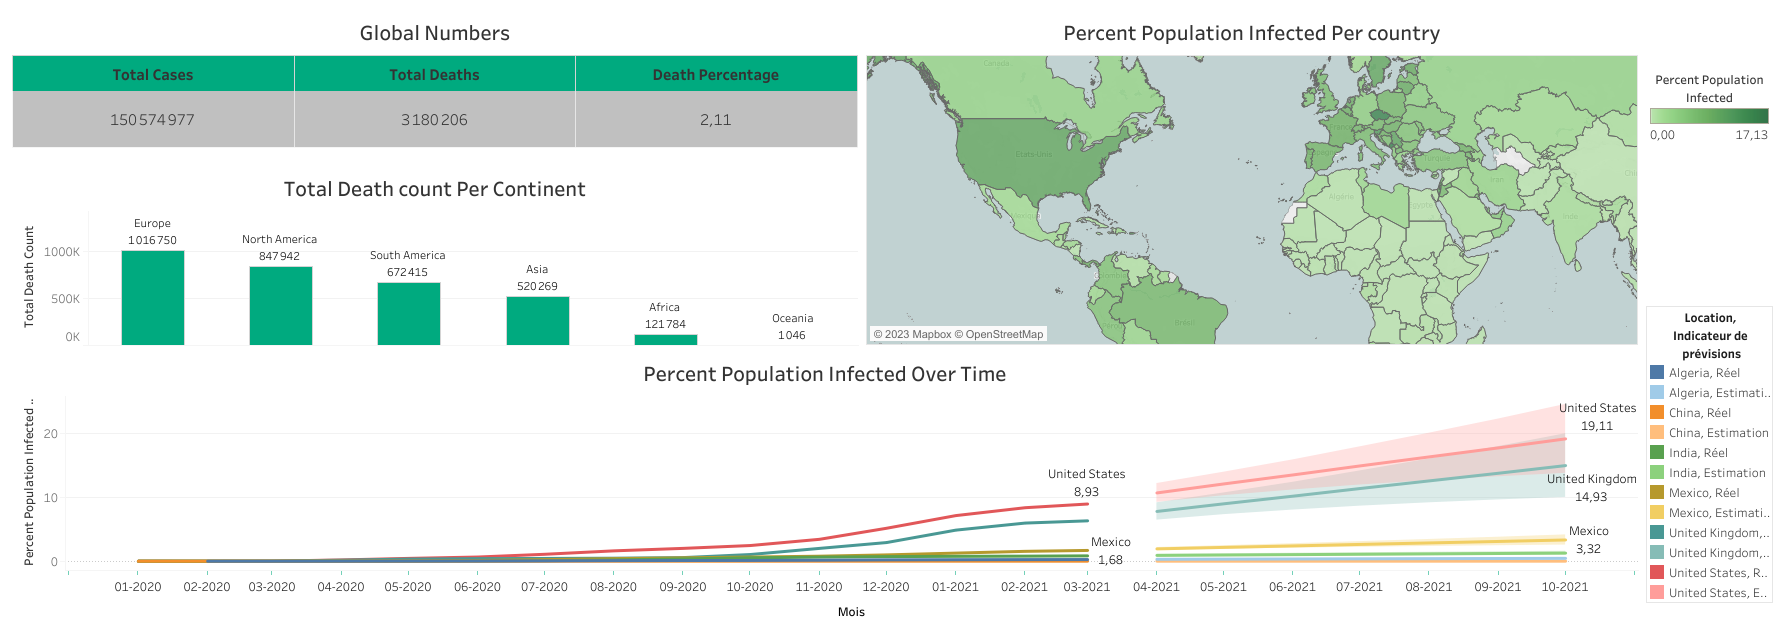

This screenshot's page, from the dashboard's own definition file:
{"tool":"tableau","page":{"name":"Tableau de bord 1","canvas":[1000,1000],"units":"permille","ordinal":0},"visuals":[{"type":"worksheet","title":"Global Numbers","mark":"Automatic","box":[6.9,13.5,454.5,243.2]},{"type":"worksheet","title":"Percent Population Infected Per country","mark":"Multipolygon","box":[461.4,13.5,414.8,532.1]},{"type":"legend","title":"Percent Population Infected Per country","param":"[federated.13p9z4b0g6ilav12sdnpe1iegbkn].[sum:PercentPopulationInfected:qk]","box":[876.2,13.5,116.9,459.5]},{"type":"worksheet","title":"Total Death count Per Continent","mark":"Automatic","rows":["TotalDeathCount"],"cols":["location"],"box":[6.9,256.8,454.5,288.9]},{"type":"legend","title":"Percent Population Infected Over Time","param":"[federated.0zqyfve0xq86ar131e66g0qh38dy].[none:Location:nk]\n[federated.0zqyfve0x","box":[876.2,473,116.9,510.1]},{"type":"worksheet","title":"Percent Population Infected Over Time","mark":"Line","rows":["PercentPopulationInfected"],"cols":["date"],"box":[6.9,545.6,869.3,440.9]}]}

Visuals, with their boxes on the dashboard's canvas, which has no fixed pixel size, in thousandths of its width and height (x1, y1, x2, y2). These are canvas units, not pixel positions in the 1784x638 screenshot, which may show the page scaled, cropped or inside an application window:
"Global Numbers" worksheet: 7:14:461:257
"Percent Population Infected Per country" worksheet (Multipolygon marks): 461:14:876:546
"Percent Population Infected Per country" legend: 876:14:993:473
"Total Death count Per Continent" worksheet: 7:257:461:546
"Percent Population Infected Over Time" legend: 876:473:993:983
"Percent Population Infected Over Time" worksheet (Line marks): 7:546:876:986
